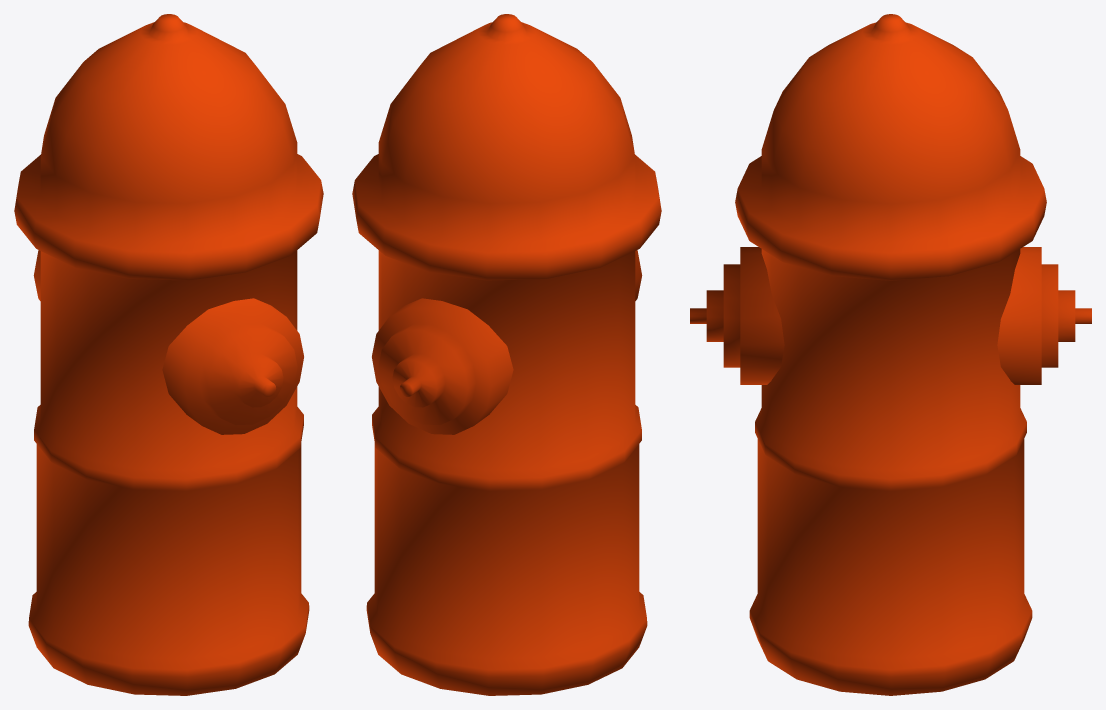
File: Hidrante.fbx
3 renders of one model, left to right at view 1: azimuth 30°, elevation 25°; view 2: azimuth 150°, elevation 25°; view 3: azimuth 270°, elevation 25°, orthographic.
Visible parts, largest first — view 1: Hidrante; view 2: Hidrante; view 3: Hidrante.
Boxes of the visible parts, x1=… form: Hidrante: x1=14, y1=14, x2=323, y2=695; Hidrante: x1=352, y1=14, x2=661, y2=695; Hidrante: x1=690, y1=14, x2=1091, y2=695.
Bounding box in the file's own units: 0.3727 × 0.8198 × 0.4803.
